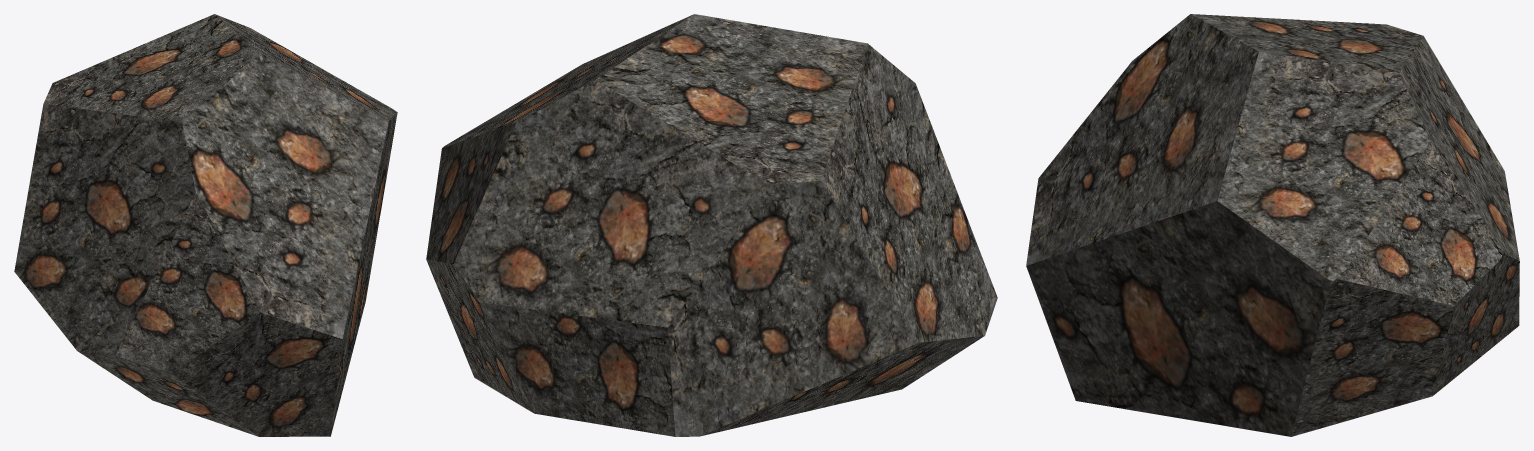
The model's file is iron_ore_5.fbx.
3 views of the same model, side by side, from view 1: azimuth 30°, elevation 25°; view 2: azimuth 150°, elevation 25°; view 3: azimuth 270°, elevation 25° (orthographic). The views are drawn at different scales.
Visible parts, largest first — view 1: Rock_Type2_01_mesh.001; view 2: Rock_Type2_01_mesh.001; view 3: Rock_Type2_01_mesh.001.
Part boxes in pixels (left/top/right/bottom): Rock_Type2_01_mesh.001: left=14, top=14, right=397, bottom=436; Rock_Type2_01_mesh.001: left=426, top=14, right=997, bottom=436; Rock_Type2_01_mesh.001: left=1026, top=14, right=1519, bottom=436.
Bounding box in the file's own units: 1.1 × 0.8786 × 1.1.
